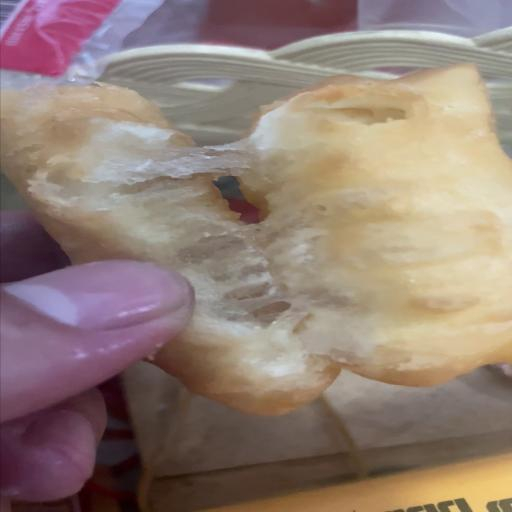street_golden_defect: (13, 61, 512, 395)
